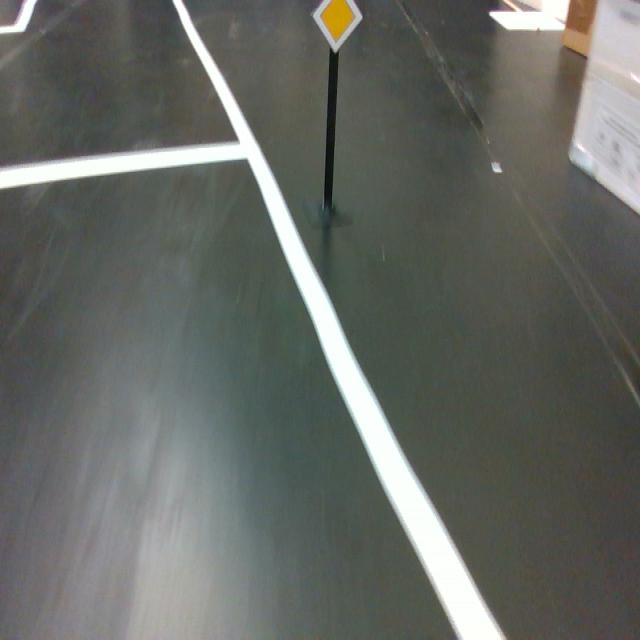priority-sign: (311, 0, 364, 56)
